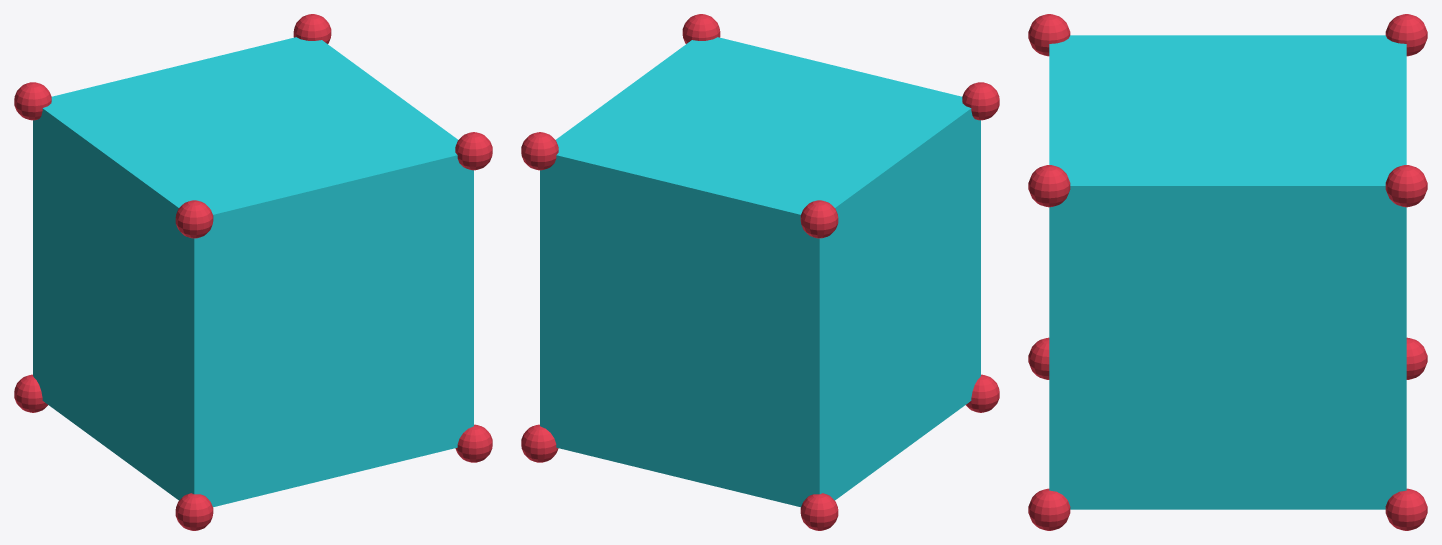
Rendered from baseCube.glb.
The picture shows the model from 3 angles, left to right: view 1: azimuth 30°, elevation 25°; view 2: azimuth 150°, elevation 25°; view 3: azimuth 270°, elevation 25°; orthographic projection. The views are drawn at different scales.
Visible parts, largest first — view 1: Sphere.004; view 2: Sphere.004; view 3: Sphere.004.
Part boxes in pixels (left/top/right/bottom): Sphere.004: left=14, top=14, right=492, bottom=530; Sphere.004: left=521, top=14, right=999, bottom=530; Sphere.004: left=1028, top=14, right=1427, bottom=530.
Bounding box in the file's own units: 2.23 × 2.24 × 2.23.
